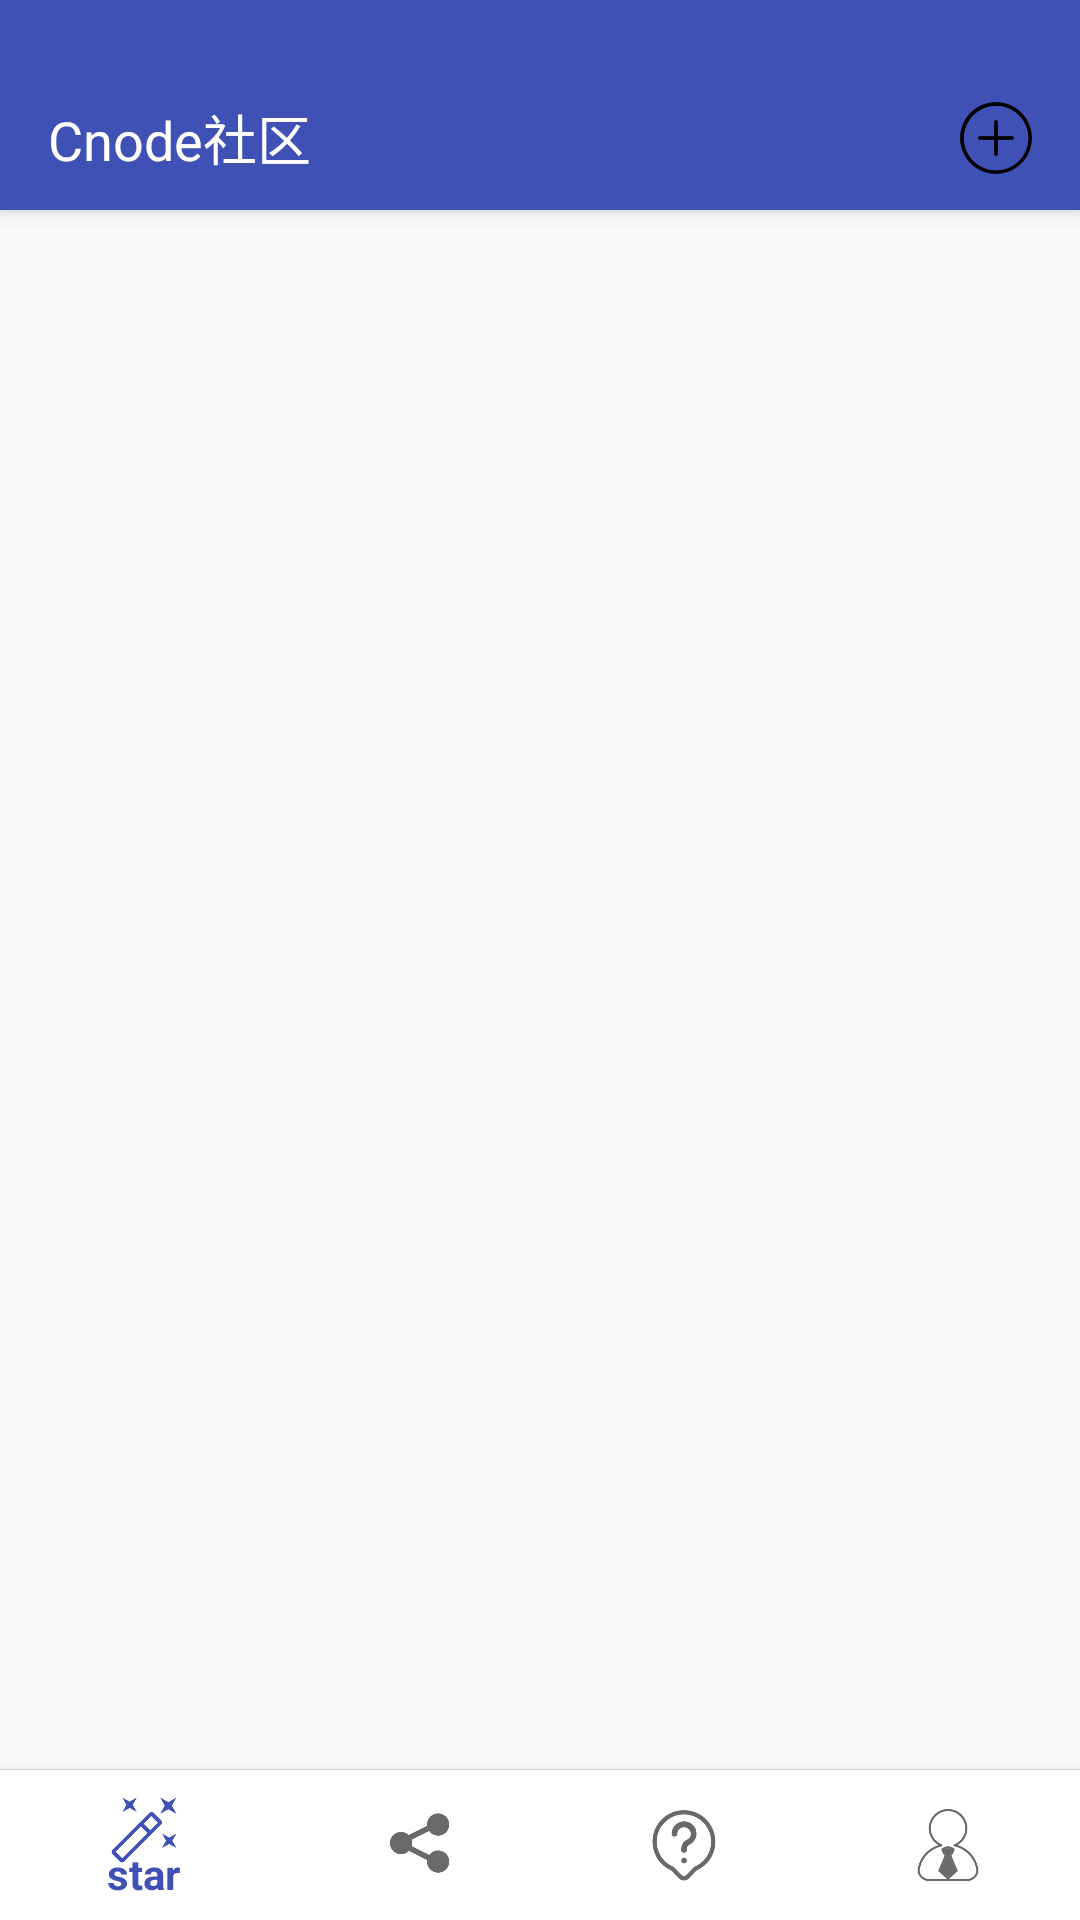

Named icons in this screenshot (1080 × 1920) and their centers, (x=x, y=y):
create topic: (x=996, y=138)
